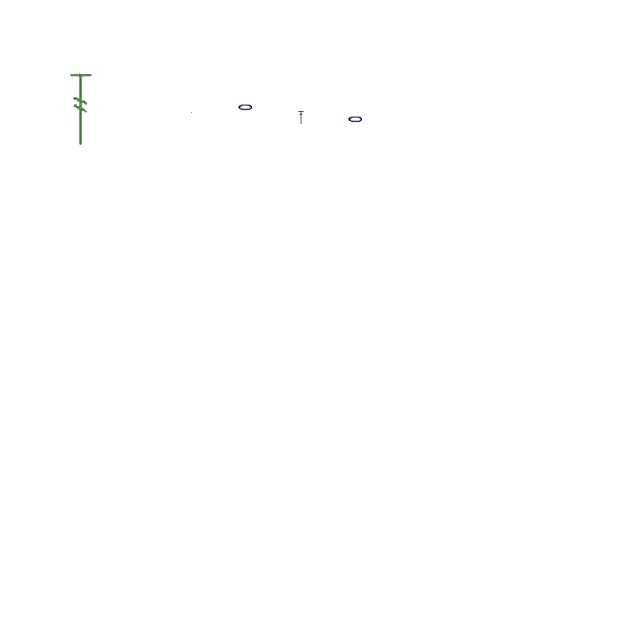chain: (238, 101, 254, 113), (348, 113, 364, 125), (190, 112, 192, 114)
double treble: (298, 112, 304, 124)
fan: (67, 70, 95, 150)
